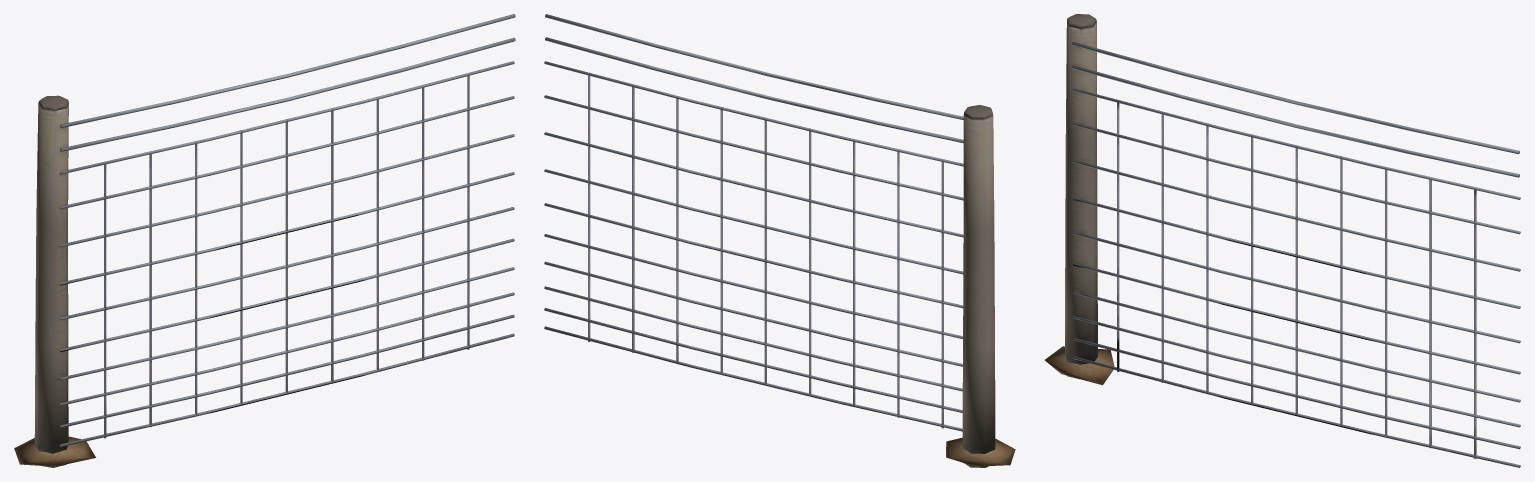
File: pen_fence.glb
The picture shows the model from 3 angles, left to right: view 1: azimuth 30°, elevation 25°; view 2: azimuth 150°, elevation 25°; view 3: azimuth 330°, elevation 25°; orthographic projection. The views are drawn at different scales.
Visible parts, largest first — view 1: pen_fence; view 2: pen_fence; view 3: pen_fence.
Boxes of the visible parts, <box> form: pen_fence: <box>14,14,515,467</box>; pen_fence: <box>544,14,1015,467</box>; pen_fence: <box>1044,14,1520,467</box>.
Size of the model in its own units: 3.21 by 2.29 by 0.409.
1 material, 1 textured.
